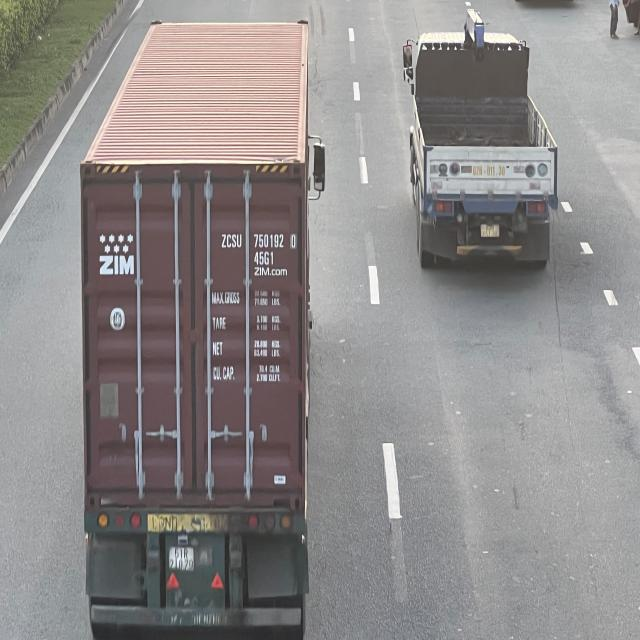container: (73, 11, 323, 640)
truck: (401, 28, 554, 271)
